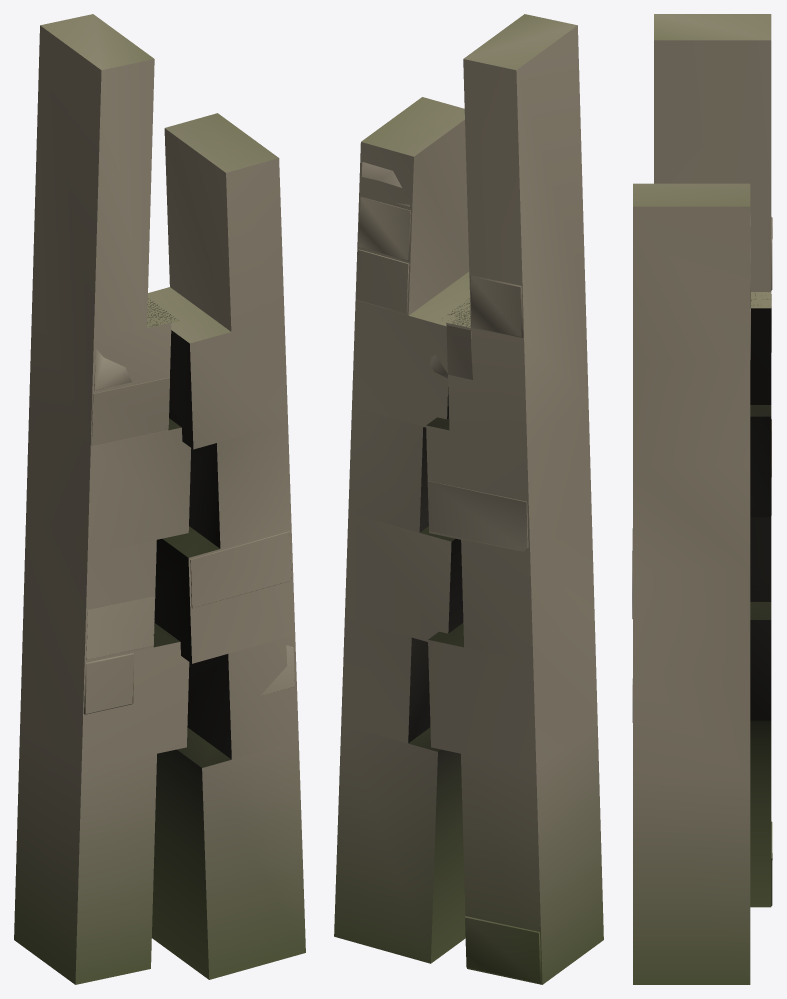
Rendered from theatre_stage_wall_cracked.glb.
The picture shows the model from 3 angles, left to right: view 1: azimuth 30°, elevation 25°; view 2: azimuth 150°, elevation 25°; view 3: azimuth 270°, elevation 25°; orthographic projection. The views are drawn at different scales.
Visible parts, largest first — view 1: theatre_stage_wall_cracked_far, theatre_stage_wall_cracked; view 2: theatre_stage_wall_cracked_far, theatre_stage_wall_cracked; view 3: theatre_stage_wall_cracked_far, theatre_stage_wall_cracked.
Part boxes in pixels (x1,y1,x2,y2): theatre_stage_wall_cracked_far: (14, 14, 305, 984); theatre_stage_wall_cracked: (84, 348, 294, 714); theatre_stage_wall_cracked_far: (334, 14, 603, 984); theatre_stage_wall_cracked: (356, 162, 541, 983); theatre_stage_wall_cracked_far: (633, 14, 771, 984); theatre_stage_wall_cracked: (632, 213, 772, 905).
Bounding box in the file's own units: 10.31 × 41.54 × 5.97.
